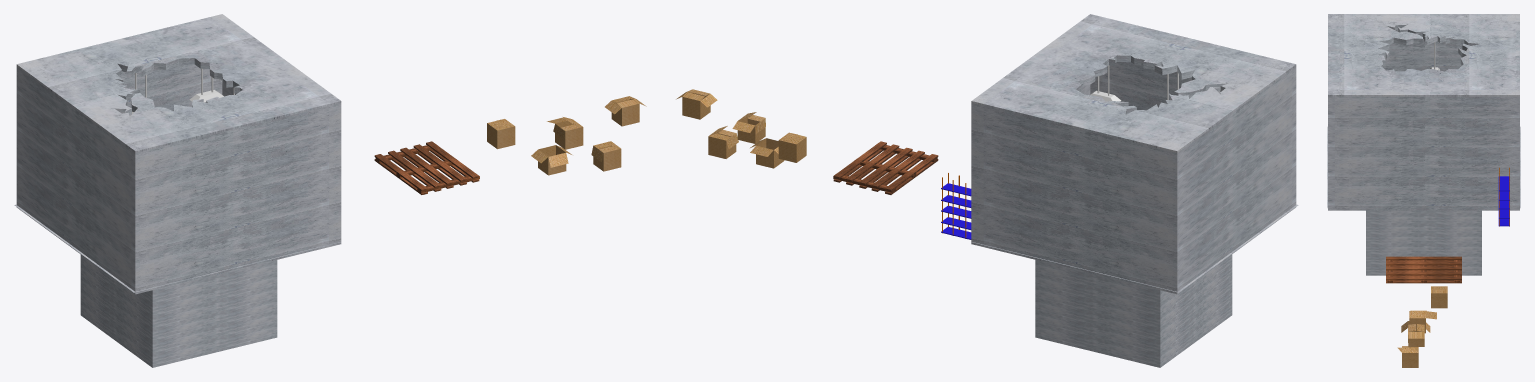
Rendered from ai_data_center_final.glb.
3 views of the same model, side by side, from view 1: azimuth 30°, elevation 25°; view 2: azimuth 150°, elevation 25°; view 3: azimuth 270°, elevation 25° (orthographic). The views are drawn at different scales.
Parts seen in each view (by area): view 1: cap, base, Cube, Cube.005, Cube.004, Cube.001, Cube.002, Cube.003; view 2: cap, base, Cube, Cube.014, Cube.001, Cube.005, Cube.002, Cube.003, Cube.004; view 3: cap, base, Cube, Cube.014, Cube.003, Cube.001, Cube.002, Cube.005.
Part boxes in pixels (x1,y1,x2,y2): cap: (16,14,341,294); base: (14,204,340,367); Cube: (374,141,479,194); Cube.005: (547,117,583,149); Cube.004: (531,145,571,175); Cube.001: (605,96,646,126); Cube.002: (591,141,621,171); Cube.003: (487,119,515,149); cap: (971,14,1296,294); base: (972,204,1298,367); Cube: (833,141,938,194); Cube.014: (941,173,971,239); Cube.001: (676,89,717,119); Cube.005: (732,112,765,143); Cube.002: (708,126,738,158); Cube.003: (778,132,806,162); Cube.004: (750,138,784,168); cap: (1328,14,1519,210); base: (1327,126,1520,275); Cube: (1386,256,1461,283); Cube.014: (1498,167,1509,226); Cube.003: (1431,286,1447,308); Cube.001: (1408,324,1424,346); Cube.002: (1397,346,1418,367); Cube.005: (1409,310,1436,333).
Size of the model in its own units: 63.22 by 26.15 by 23.29.
10 materials, 5 textured.
